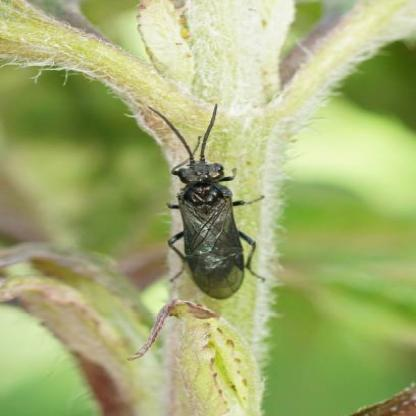sawfly: (121, 95, 284, 306)
